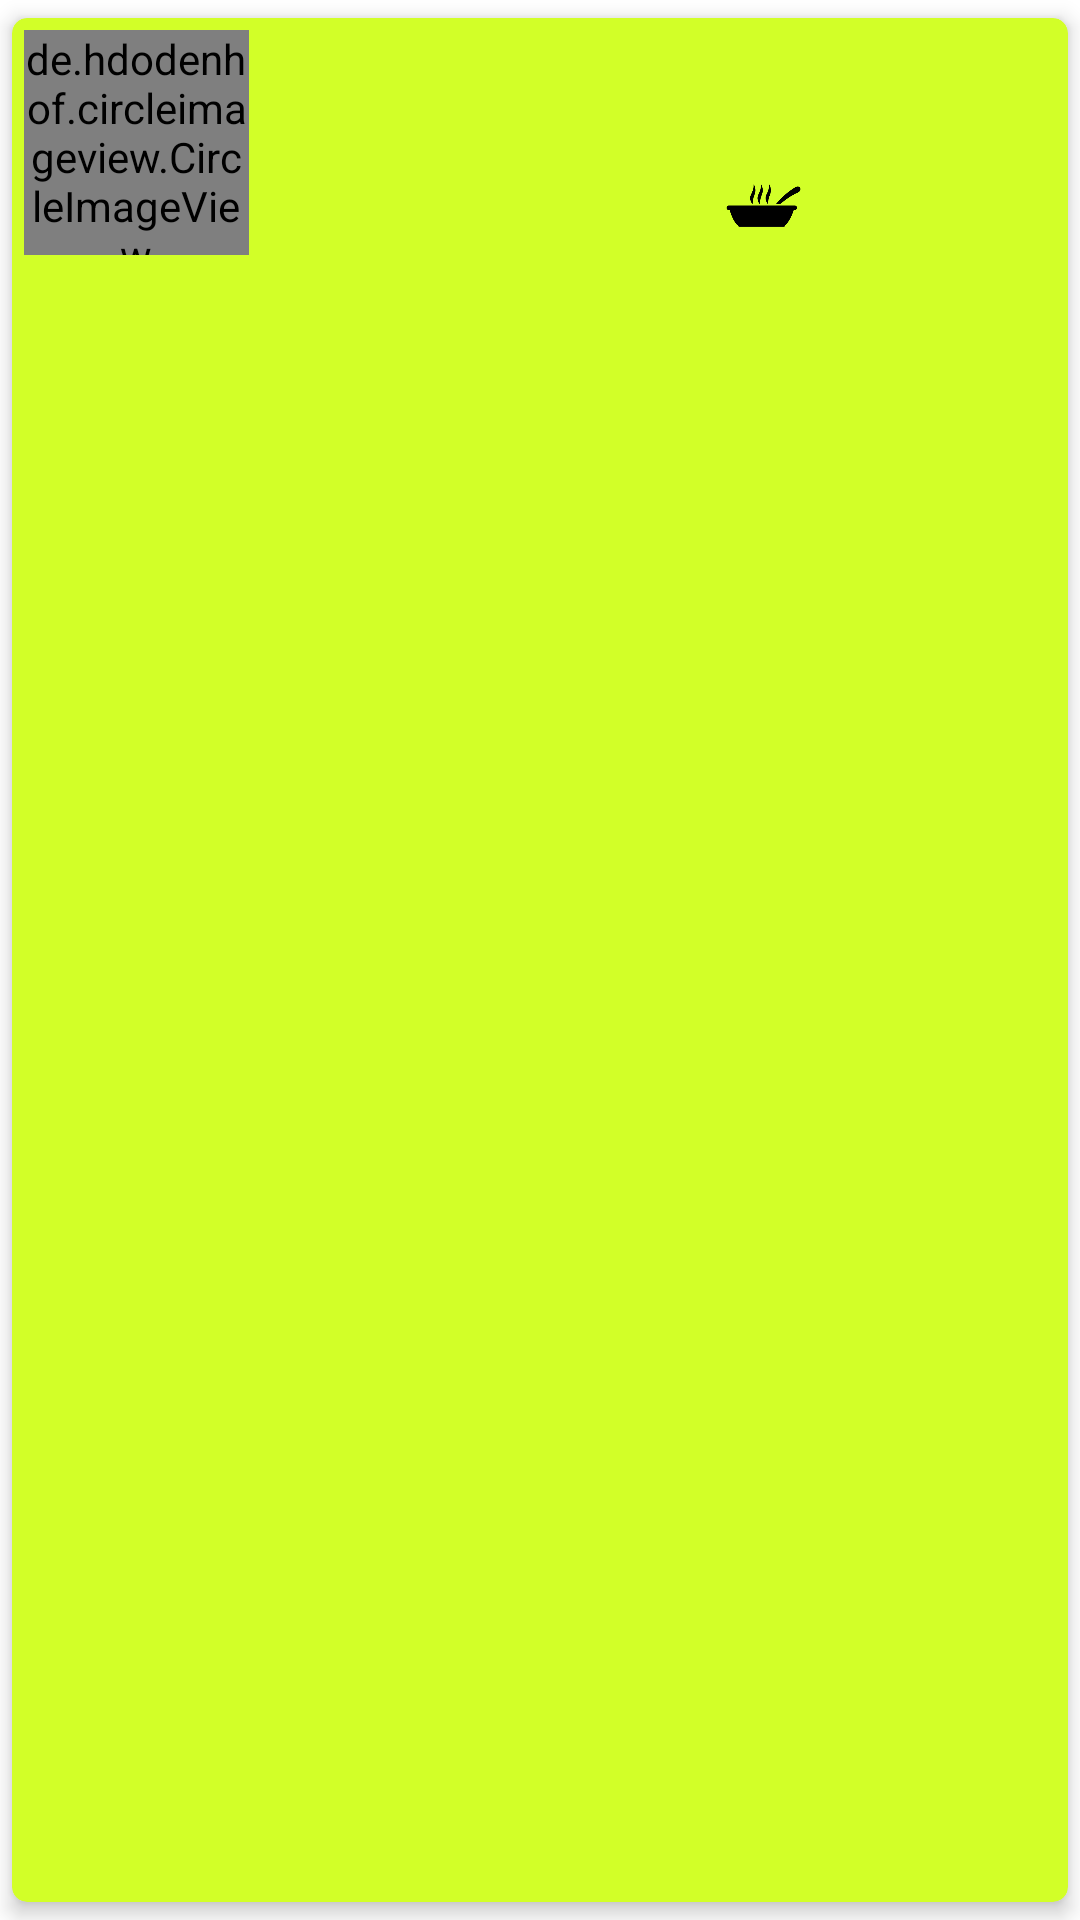

Where to tap for icons on this 1080w x 1920h app screen, as [x,y]:
dish: [763,205]
